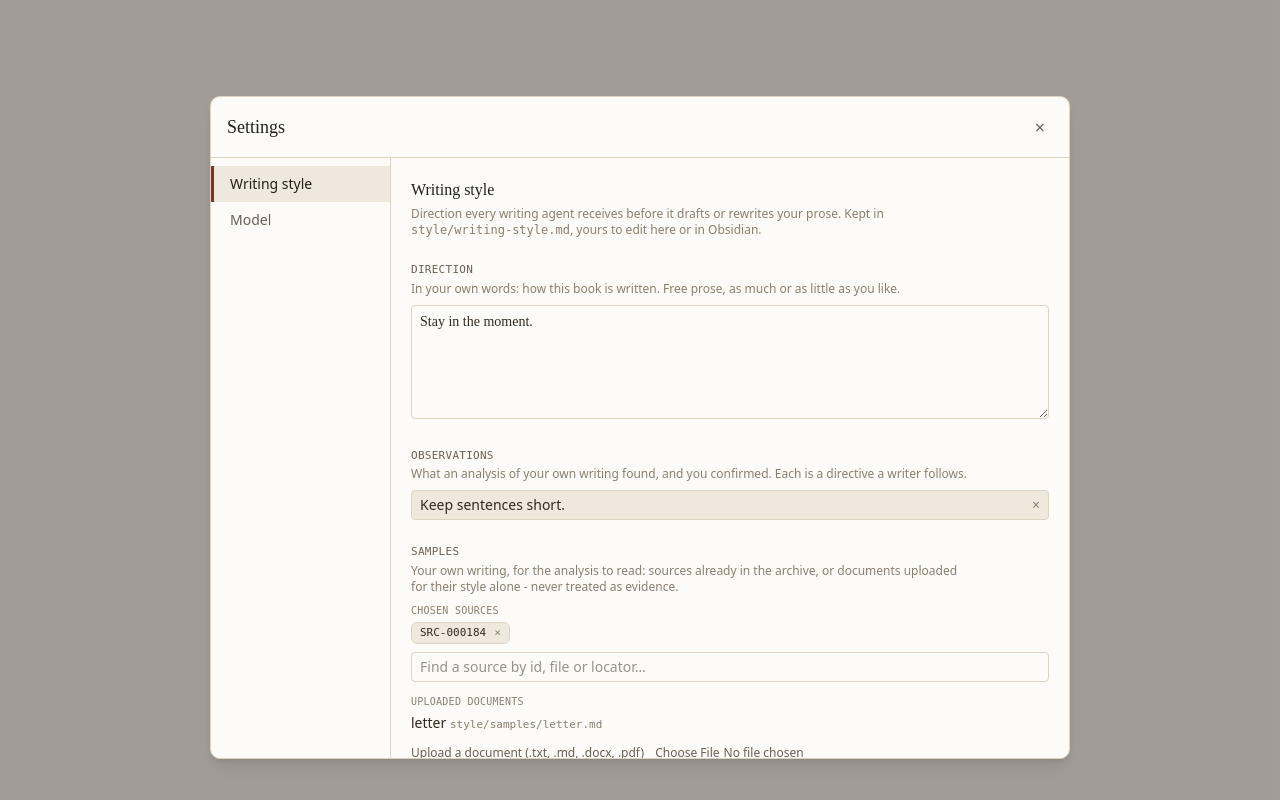
Test: the settings dialog › saves the edited direction with the token it was served
Replace the text in the text box named "Direction" with "No hindsight.". click: x=730, y=362
box: top-left (411, 304), bottom-right (1049, 418)
(page scrolled)
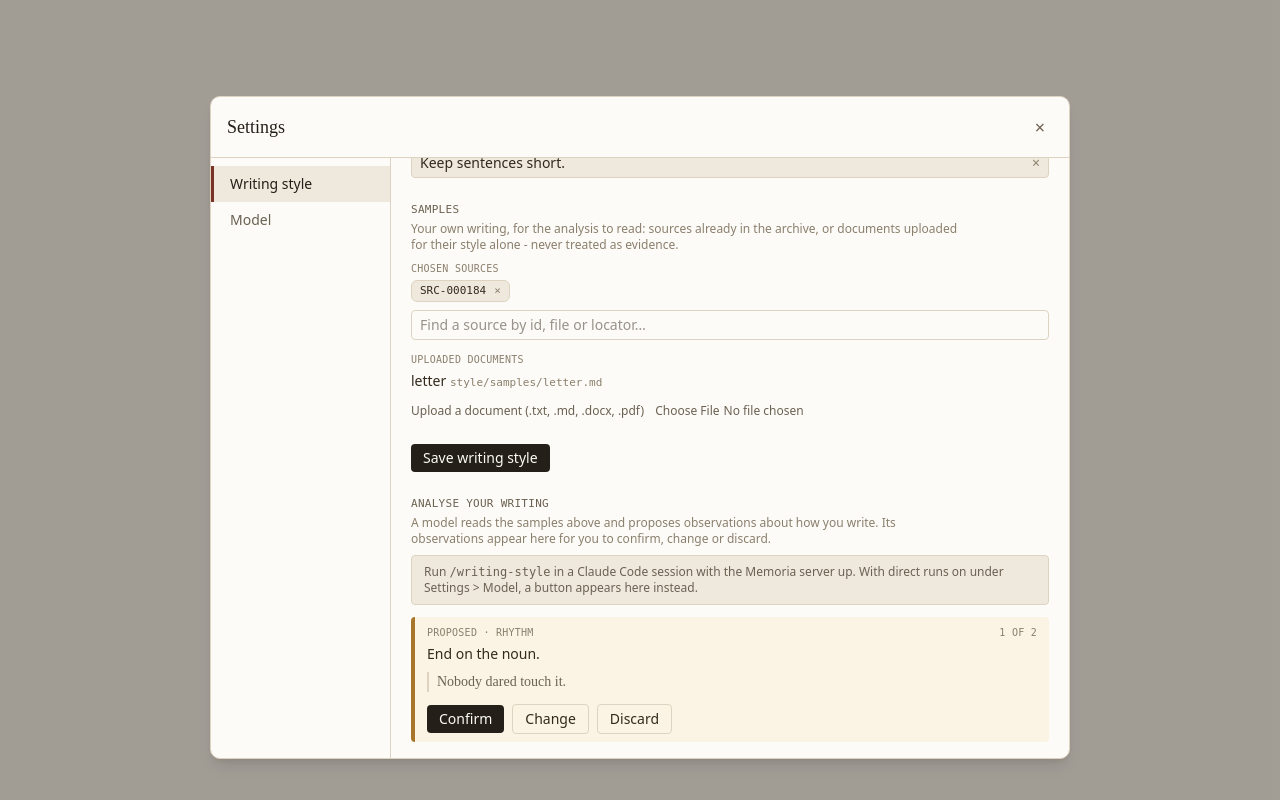
Click the button "Save writing style". click: x=480, y=458
box: top-left (411, 444), bottom-right (550, 472)
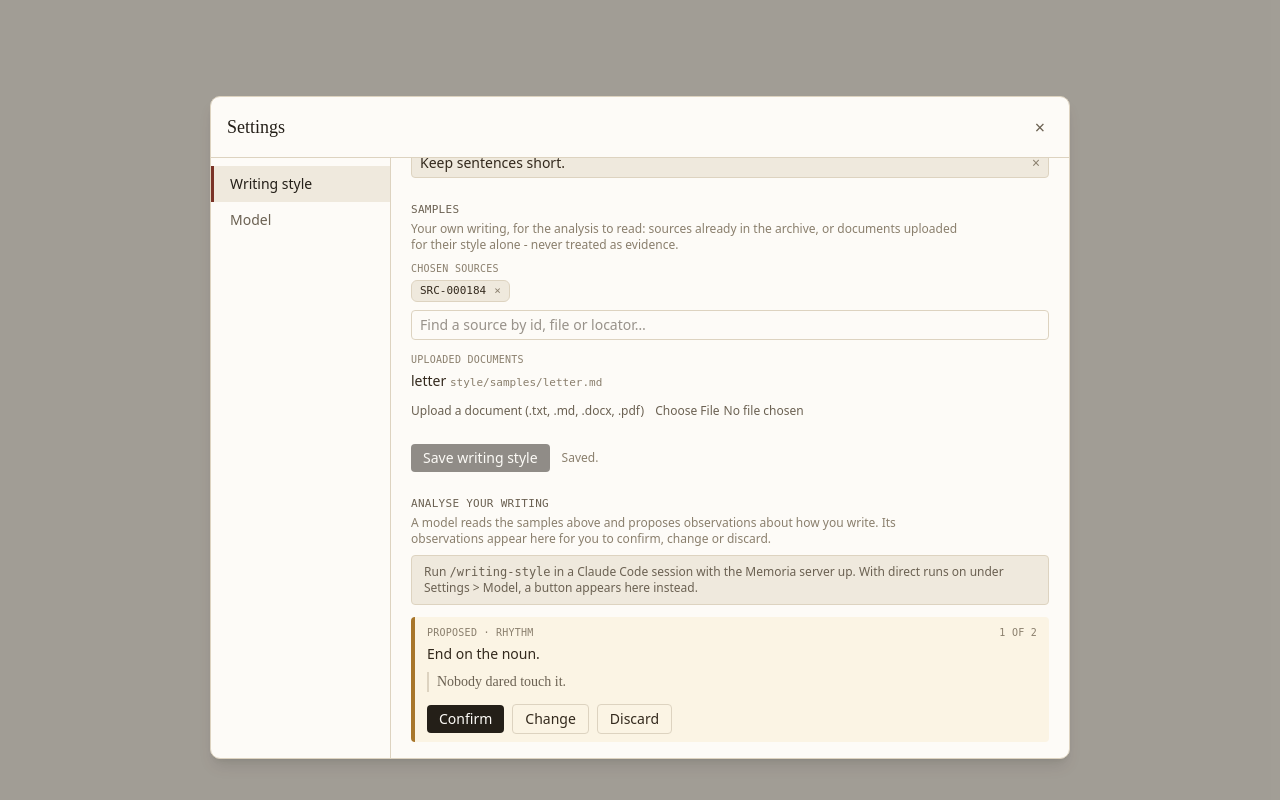
Result: the text "Saved." is shown at top-left (562, 450), bottom-right (598, 466)
